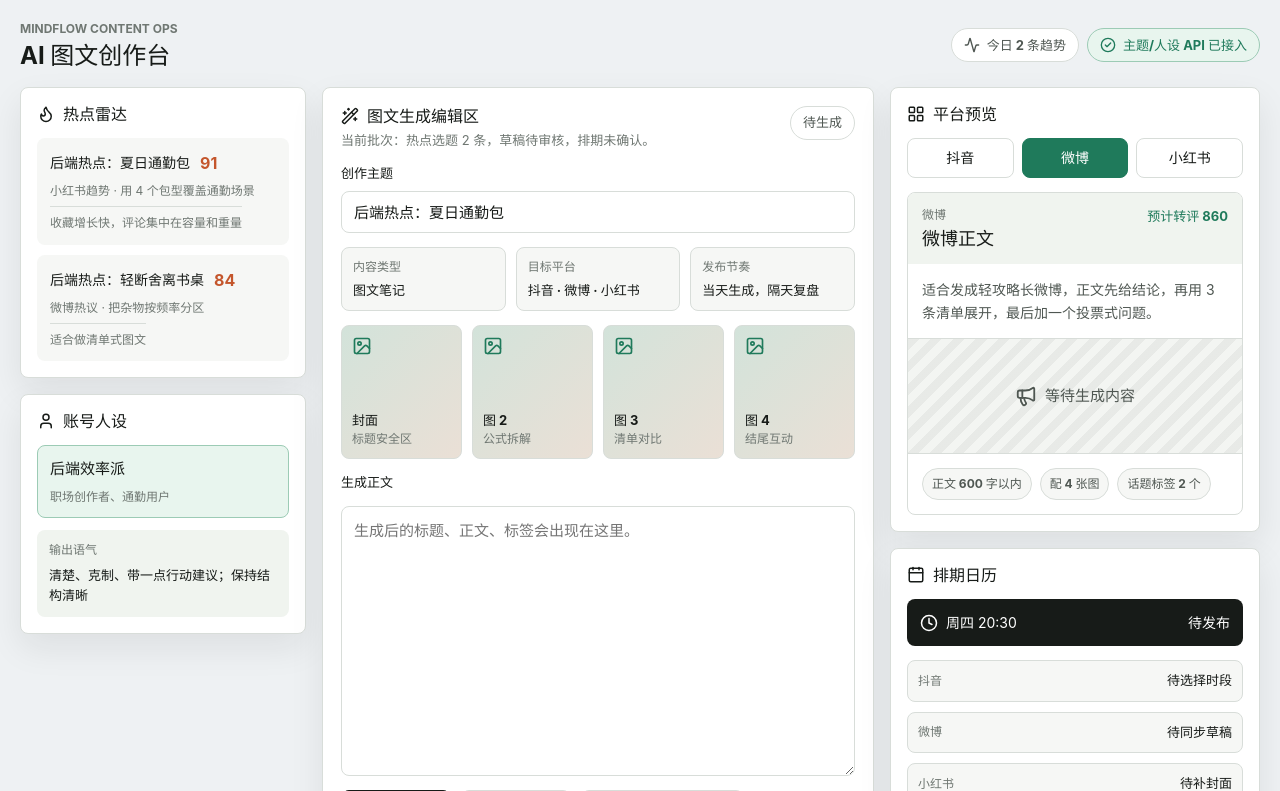
Test: MindFlow AI workbench prototype › loads backend topics and personas into the input panels
Expected: the text "后端热点：夏日通勤包" is shown, [50,152,190,173]
Expected: the text "后端效率派" is shown, [50,458,125,481]
Click the button "后端热点：轻断舍离书桌 84 微博热议 · 把杂物按频率分区 适合做清单式图文".
click(163, 308)  # box [37,255,289,361]
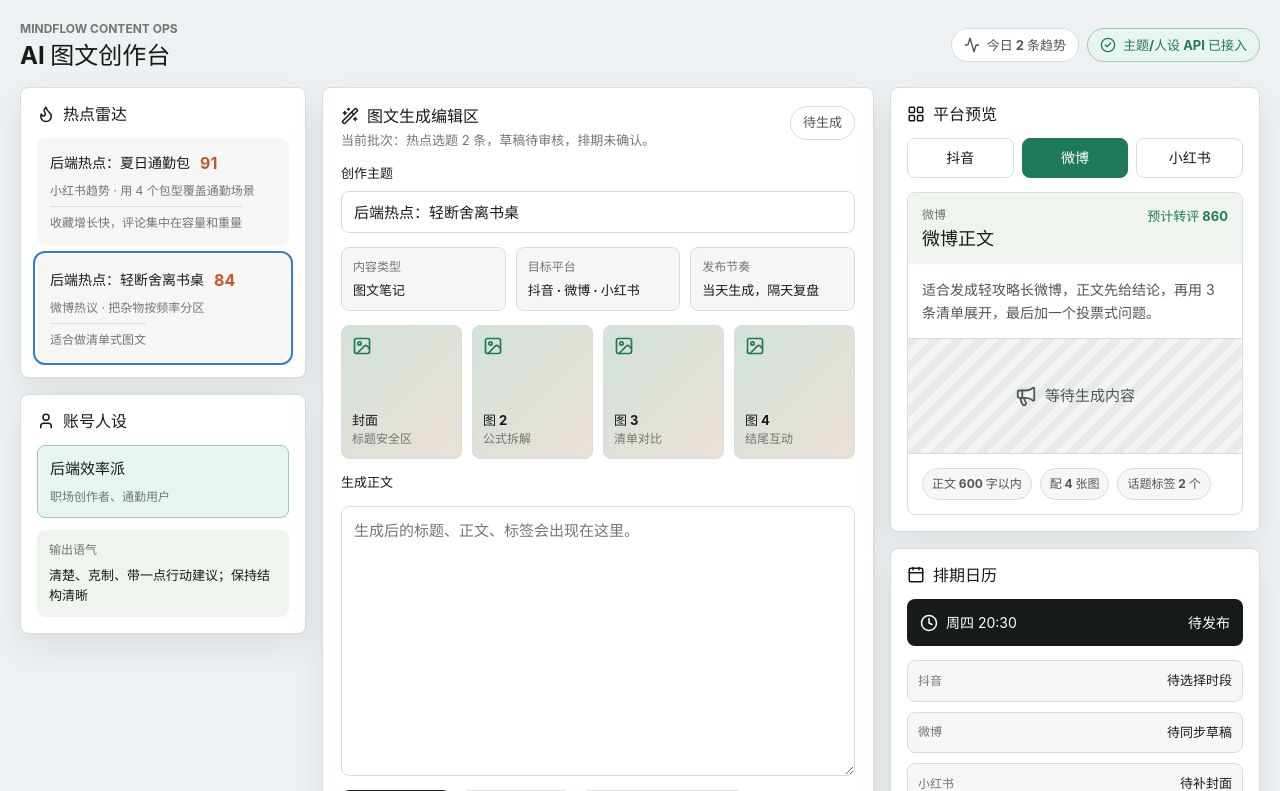
Expected: the field labelled "创作主题" holds "后端热点：轻断舍离书桌", [341,191,855,233]
